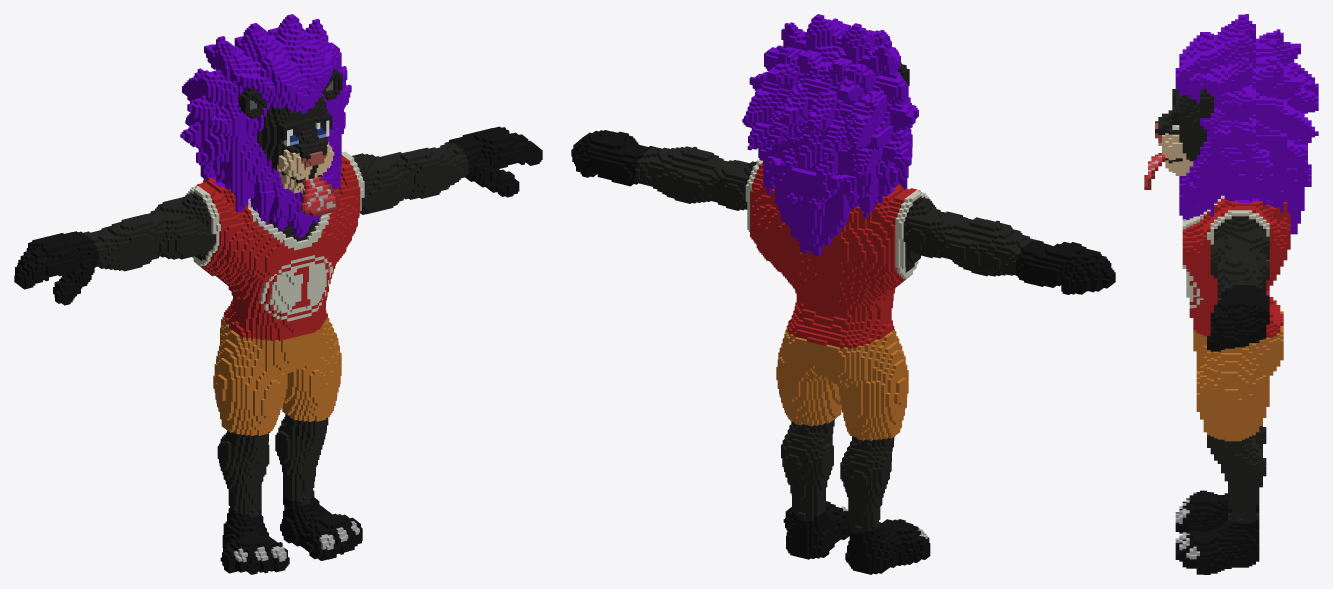
Rendered from 377-DWD196RG.glb.
The picture shows the model from 3 angles, left to right: view 1: azimuth 30°, elevation 25°; view 2: azimuth 150°, elevation 25°; view 3: azimuth 270°, elevation 25°; orthographic projection. The views are drawn at different scales.
Parts seen in each view (by area): view 1: meat; view 2: meat; view 3: meat.
Boxes of the visible parts, bbox=[...] form: meat: bbox=[14, 14, 542, 574]; meat: bbox=[571, 14, 1115, 574]; meat: bbox=[1144, 14, 1318, 574].
Bounding box in the file's own units: 17.2 × 16.5 × 5.
Materials: 5 (5 with a texture image).
